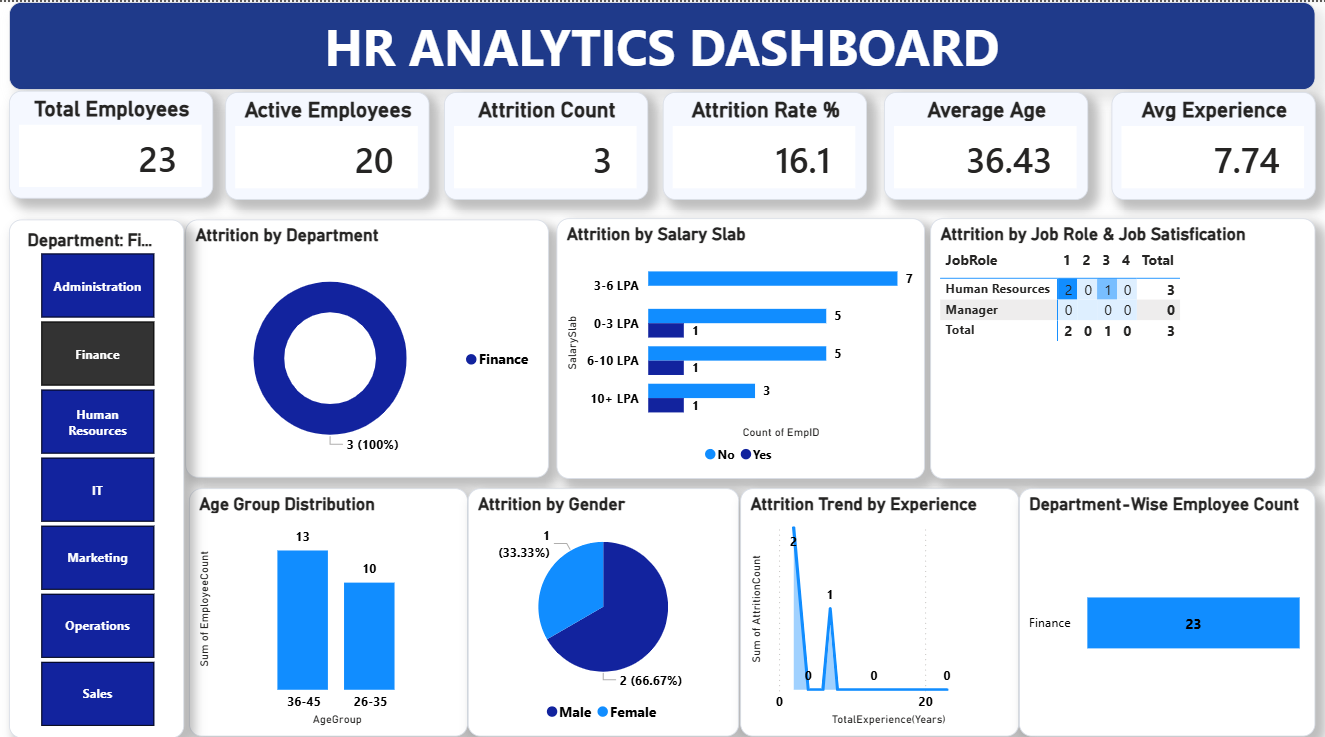

The dashboard page shown, as its layout file describes it:
{"tool":"powerbi","page":{"name":"Page 1","canvas":[1280,720],"ordinal":0},"visuals":[{"type":"textbox","box":[10,0,1259,85],"z":0},{"type":"cardVisual","title":"Total Employees","fields":{"Data":["CountNonNull(HR_Analytics-4.EmpID)"]},"box":[9.8,85.6,196.9,103.9],"z":1000},{"type":"cardVisual","title":"Active Employees","fields":{"Data":["CountNonNull(HR_Analytics-4.EmployeeCount)"]},"box":[217.7,86.8,196.9,103.9],"z":2000},{"type":"cardVisual","title":"Attrition Count","fields":{"Data":["Sum(HR_Analytics-4.AttritionCount)"]},"box":[429.2,86.8,196.9,103.9],"z":3000},{"type":"cardVisual","title":"Attrition Rate %","fields":{"Data":["HR_Analytics-4.Attrition Rate %"]},"box":[639.5,86.8,196.9,103.9],"z":4000},{"type":"cardVisual","title":"Average Age","fields":{"Data":["Avg(HR_Analytics-4.Age)"]},"box":[853.5,86.8,196.9,103.9],"z":5000},{"type":"cardVisual","title":"Avg Experience","fields":{"Data":["Avg(HR_Analytics-4.YearsatCompany)"]},"box":[1072.4,86.8,196.9,103.9],"z":6000},{"type":"donutChart","title":"Attrition by Department","fields":{"Category":["HR_Analytics-4.Department"],"Y":["Sum(HR_Analytics-4.AttritionCount)"]},"box":[179,210,350,249],"z":7000},{"type":"clusteredBarChart","title":"Attrition by Salary Slab","fields":{"Category":["HR_Analytics-4.SalarySlab"],"Y":["CountNonNull(HR_Analytics-4.EmpID)"],"Series":["HR_Analytics-4.Attrition"]},"box":[537,209,355,251],"z":8000},{"type":"pivotTable","title":"Attrition by Job Role & Job Satisfication","fields":{"Rows":["HR_Analytics-4.JobRole"],"Values":["Sum(HR_Analytics-4.AttritionCount)"],"Columns":["HR_Analytics-4.JobSatisfaction"]},"box":[898,209,371,251],"z":9000},{"type":"columnChart","title":"Age Group Distribution","fields":{"Category":["HR_Analytics-4.AgeGroup"],"Y":["Sum(HR_Analytics-4.EmployeeCount)"]},"box":[183.1,469,269,239.4],"z":10000},{"type":"pieChart","title":"Attrition by Gender","fields":{"Category":["HR_Analytics-4.Gender"],"Y":["Sum(HR_Analytics-4.AttritionCount)"]},"box":[452.1,469,262,239.4],"z":11000},{"type":"areaChart","title":"Attrition Trend by Experience","fields":{"Category":["HR_Analytics-4.TotalExperience(Years)"],"Y":["Sum(HR_Analytics-4.AttritionCount)"]},"box":[714.1,469,269,239.4],"z":12000},{"type":"funnel","title":"Department-Wise Employee Count","fields":{"Category":["HR_Analytics-4.Department"],"Y":["CountNonNull(HR_Analytics-4.EmpID)"]},"box":[983.1,469,285.9,239.4],"z":13000},{"type":"slicer","fields":{"Values":["HR_Analytics-4.Department"]},"box":[9.6,209.6,168.7,500],"z":14000}]}

Visuals, with their boxes in screenshot pixels (x1, y1, x2, y2), scaled from the page's 1280x720 canvas onto the 1325x737 screenshot:
textbox: bbox=[10, 0, 1314, 87]
"Total Employees" cardVisual: bbox=[10, 88, 214, 194]
"Active Employees" cardVisual: bbox=[225, 89, 429, 195]
"Attrition Count" cardVisual: bbox=[444, 89, 648, 195]
"Attrition Rate %" cardVisual: bbox=[662, 89, 866, 195]
"Average Age" cardVisual: bbox=[884, 89, 1087, 195]
"Avg Experience" cardVisual: bbox=[1110, 89, 1314, 195]
"Attrition by Department" donutChart: bbox=[185, 215, 548, 470]
"Attrition by Salary Slab" clusteredBarChart: bbox=[556, 214, 923, 471]
"Attrition by Job Role & Job Satisfication" pivotTable: bbox=[930, 214, 1314, 471]
"Age Group Distribution" columnChart: bbox=[190, 480, 468, 725]
"Attrition by Gender" pieChart: bbox=[468, 480, 739, 725]
"Attrition Trend by Experience" areaChart: bbox=[739, 480, 1018, 725]
"Department-Wise Employee Count" funnel: bbox=[1018, 480, 1314, 725]
slicer - HR_Analytics-4.Department: bbox=[10, 215, 185, 726]
